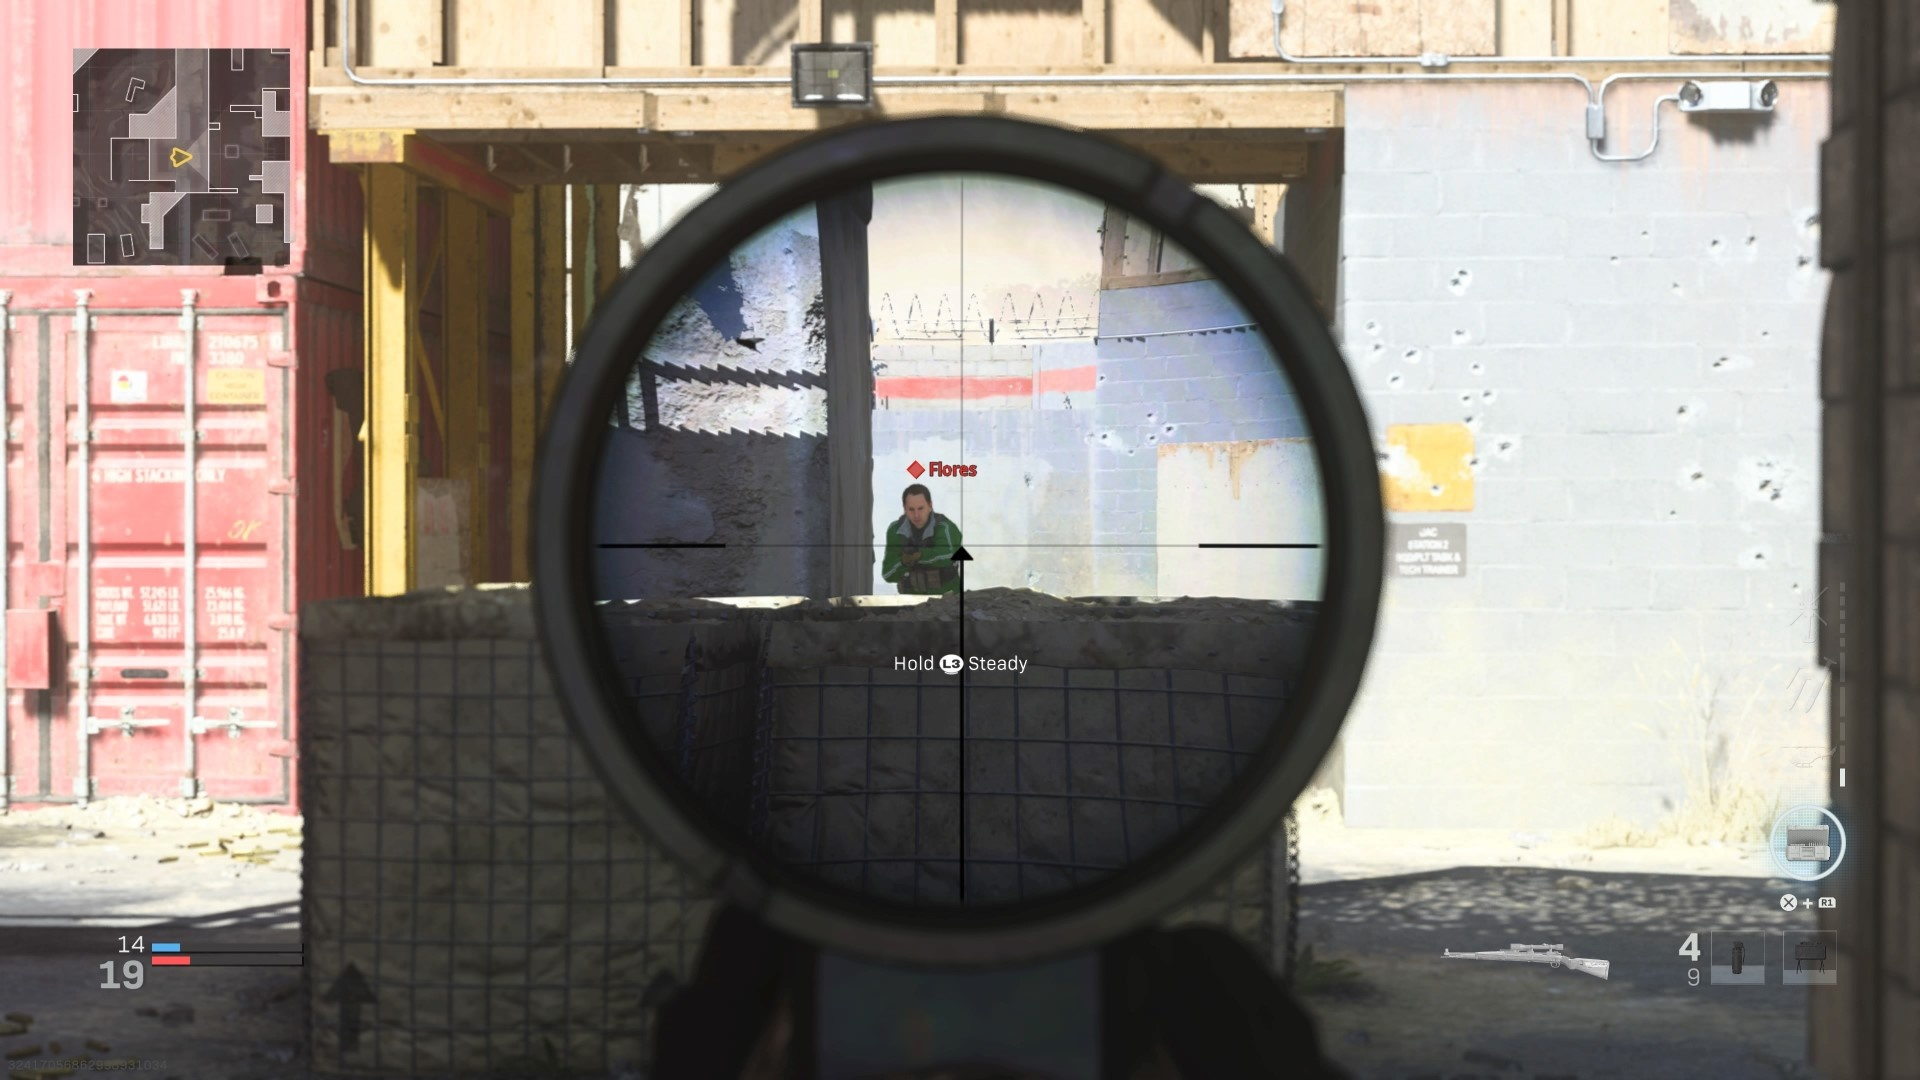head: (900, 483, 934, 531)
person: (881, 483, 969, 589)
